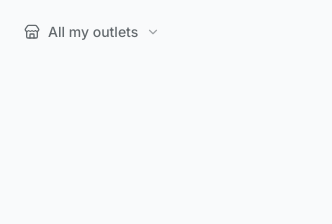
Test: OutletSwitcher › starts on all outlets and narrows to the chosen one
This screenshot has width=332, height=224.
Step 1. Click the button with aria-label "Outlet: All my outlets" → click(92, 32), box [12,12,172,52]
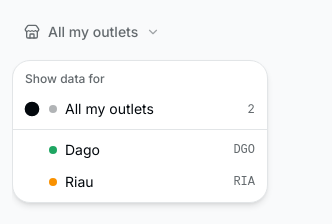
Step 2. Click the menu item "Riau RIA" → click(53, 182), box [49,173,255,190]
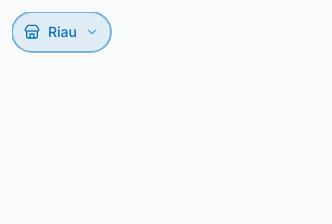
Expected: the text "Riau" is shown, [48,22,77,42]
Expected: the button with aria-label "Outlet: Riau" is shown, [12,12,111,52]
